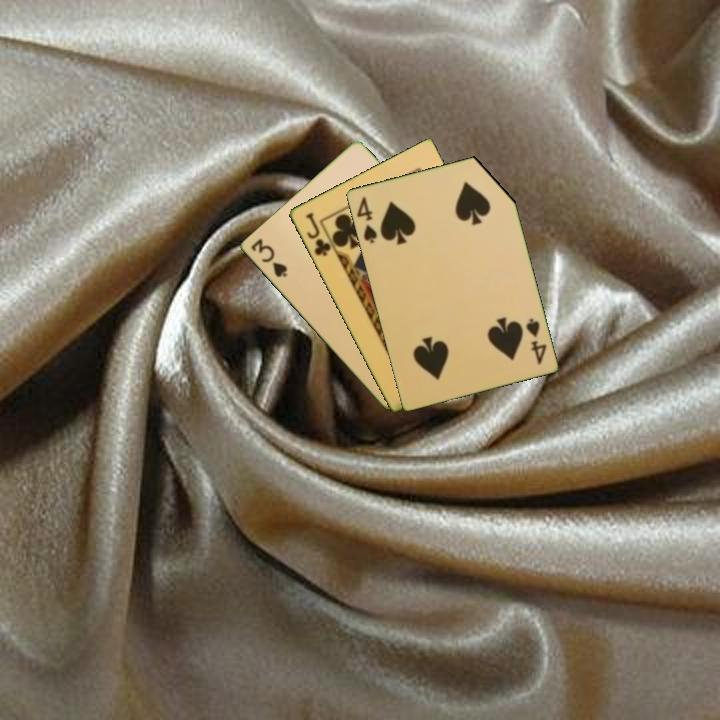3s: (247, 235, 290, 280)
4s: (353, 193, 380, 246), (522, 314, 549, 367)
Jc: (302, 209, 334, 259)
